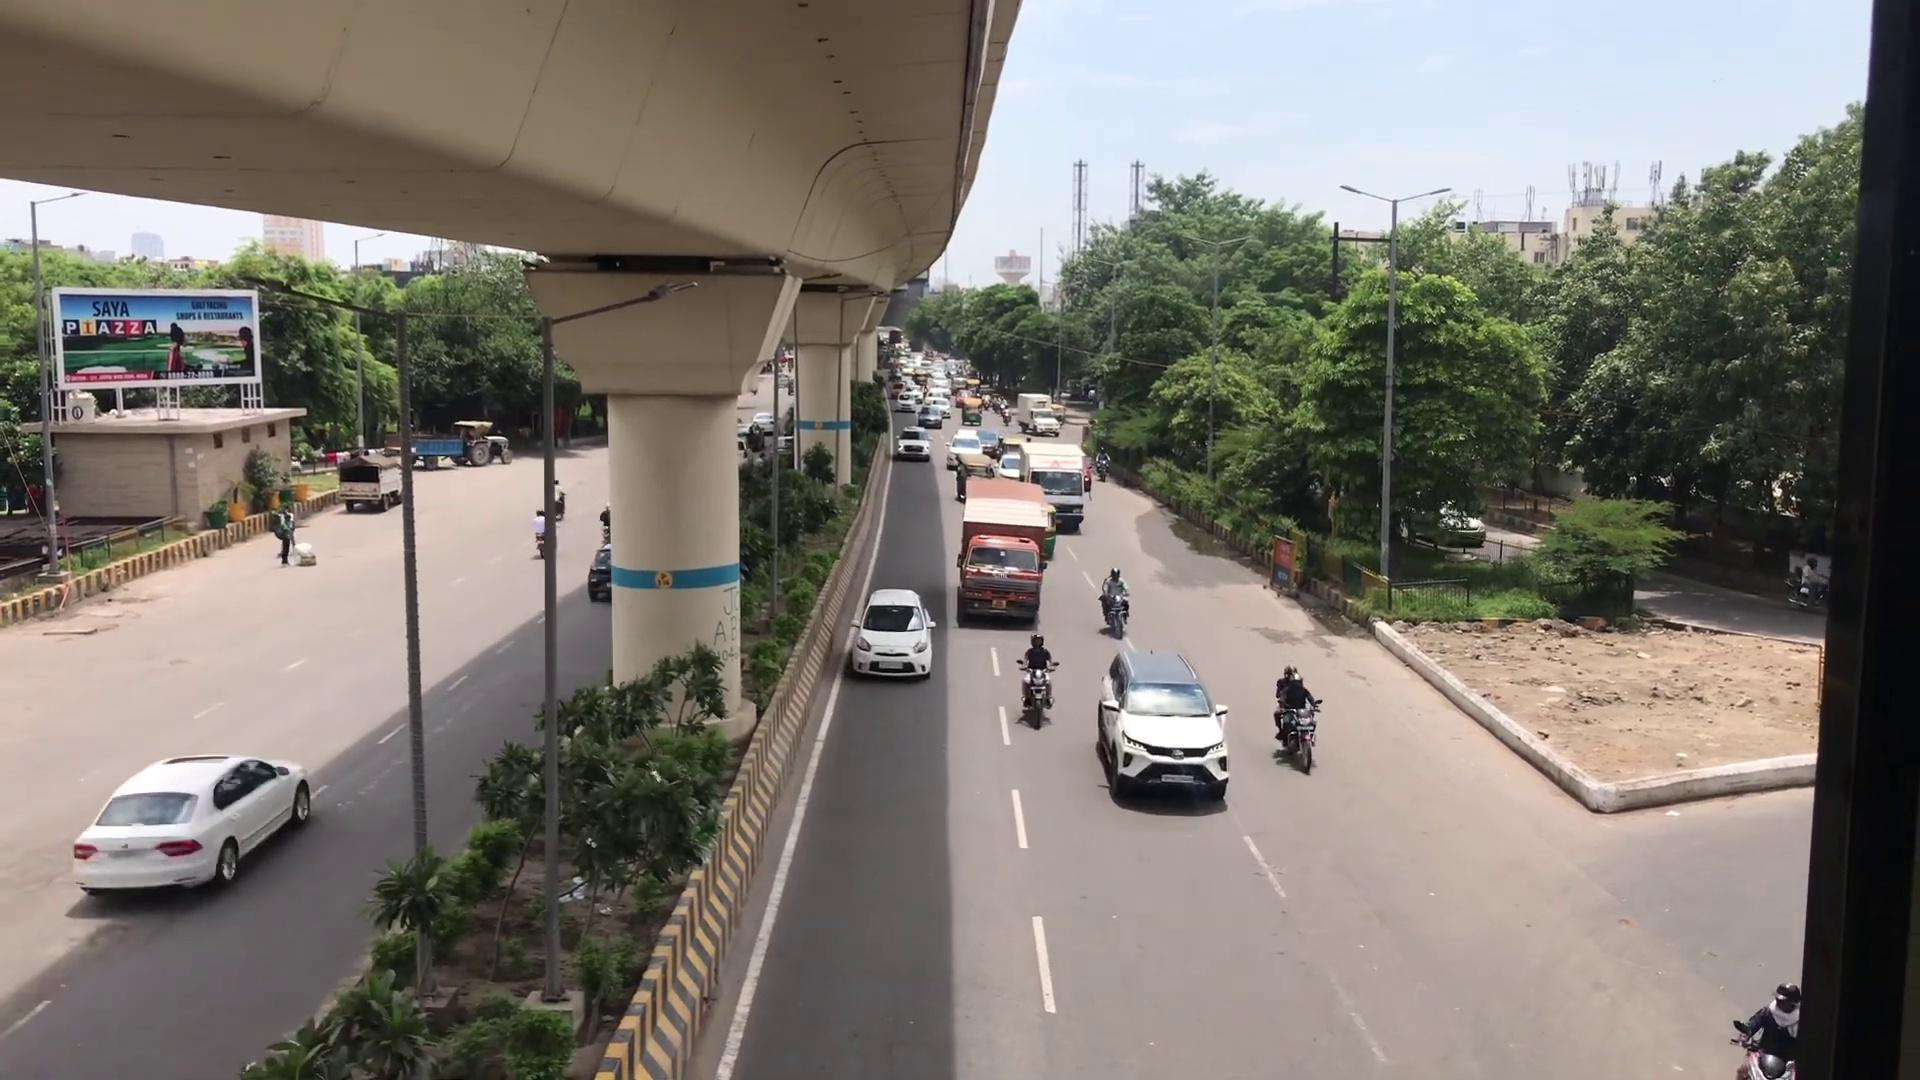Bike: (1273, 651, 1321, 771), (1019, 622, 1056, 728), (1097, 558, 1130, 638)
Car: (73, 744, 314, 899), (1095, 641, 1230, 802), (844, 584, 935, 683)
Truck: (953, 473, 1051, 628)
